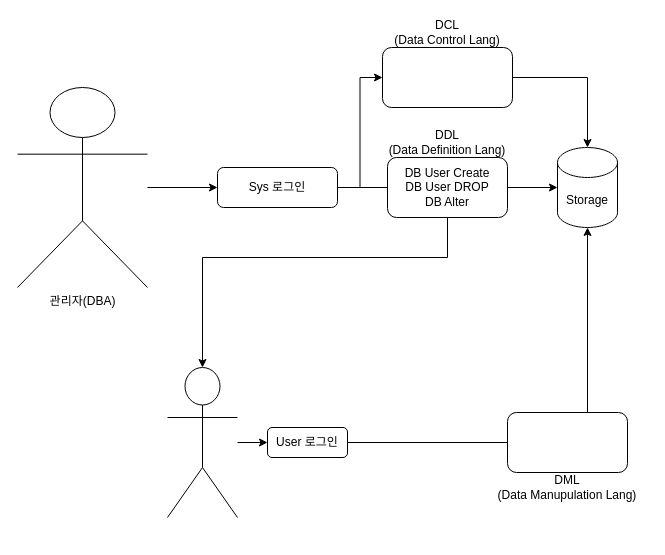
The diagram is 665 pixels wide and 555 high, and some of its shapes have lost their labels. Here are the shapes that lost their labels. From the top down, the box of each, then its label:
(382, 46, 512, 108): GRANT REVOCE COMMIT ROLEBACK
(166, 366, 238, 518): 유저(User)
(506, 412, 628, 472): CREATE INSERT READ SELECT UPDATE UPDATE DELETE DELETE
